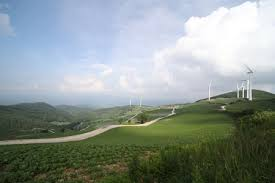field: (3, 100, 275, 182)
sky: (2, 2, 273, 97)
